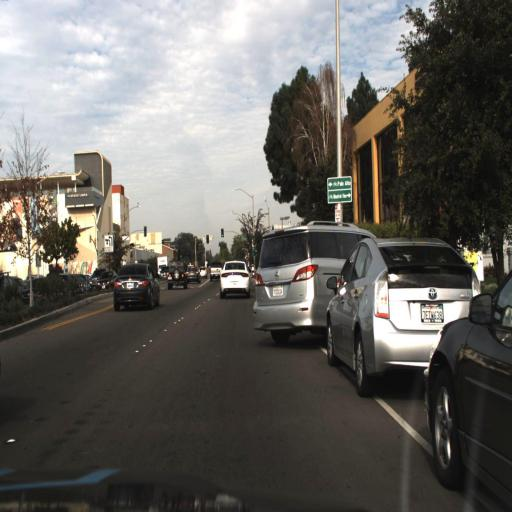car: (322, 234, 480, 392), (426, 263, 512, 512), (237, 221, 344, 356), (251, 221, 360, 343), (362, 238, 430, 290), (113, 257, 161, 316), (218, 256, 250, 300), (93, 260, 118, 298), (166, 259, 190, 289), (182, 258, 204, 288)
